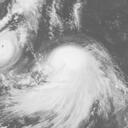cyclone: (45, 42, 95, 89), (1, 34, 16, 63)
